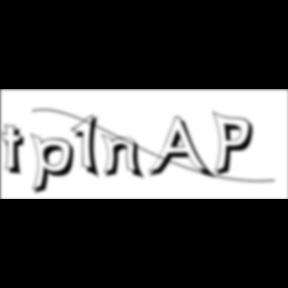1: (70, 114, 106, 182)
A: (148, 116, 217, 182)
P: (212, 110, 260, 180)
n: (102, 132, 148, 181)
p: (31, 132, 81, 198)
t: (1, 124, 32, 179)
